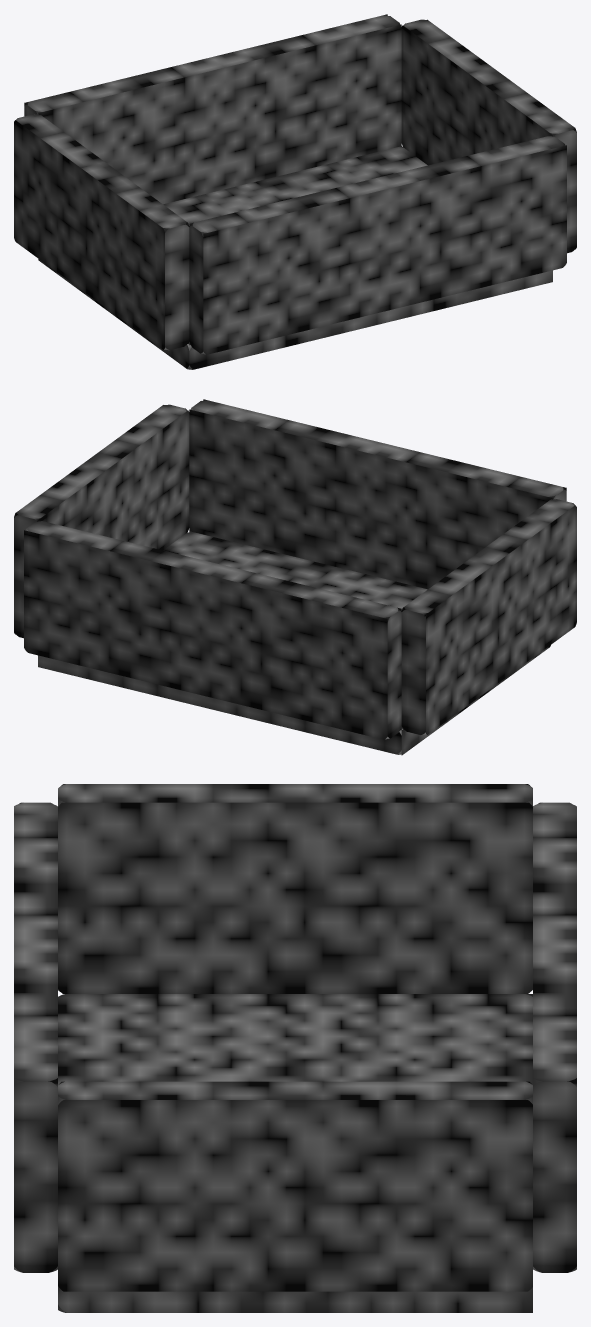
Rendered from boat_bedrock.fbx.
3 views of the same model, one above another, from view 1: azimuth 30°, elevation 25°; view 2: azimuth 150°, elevation 25°; view 3: azimuth 270°, elevation 25° (orthographic). The views are drawn at different scales.
Parts seen in each view (by area): view 1: Cube.083; view 2: Cube.083; view 3: Cube.083.
Boxes of the visible parts, x1,y1,x2,y2 form: Cube.083: [14, 14, 576, 369]; Cube.083: [14, 399, 576, 755]; Cube.083: [14, 784, 576, 1312].
Bounding box in the file's own units: 283 × 96.64 × 213.
